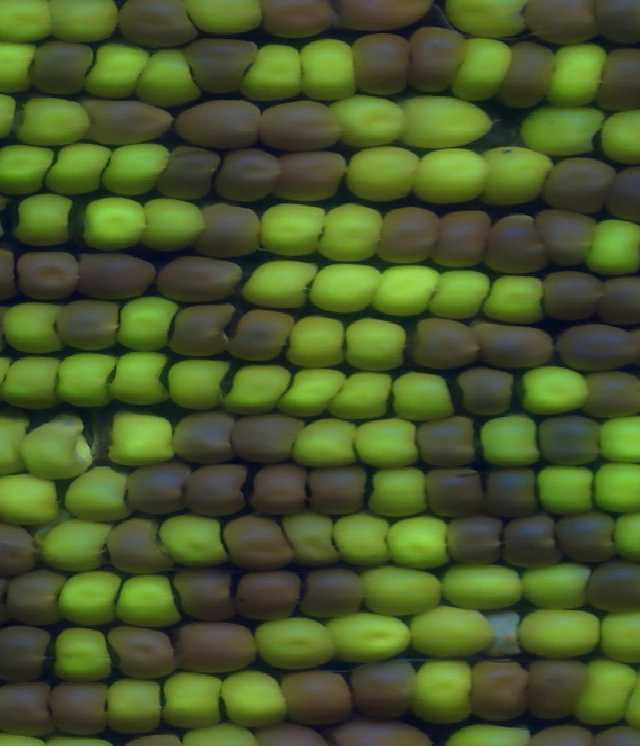fluorescent: (398, 92, 497, 149), (18, 410, 96, 482), (508, 107, 606, 160), (250, 615, 341, 672), (349, 413, 431, 474), (411, 150, 501, 205), (363, 564, 450, 620), (518, 606, 613, 657), (408, 606, 502, 657), (281, 310, 355, 374), (328, 610, 419, 662), (153, 512, 232, 570), (217, 663, 290, 725), (576, 659, 640, 729), (483, 147, 554, 210), (382, 512, 455, 573), (348, 147, 428, 202), (242, 258, 324, 311), (318, 202, 384, 267), (258, 195, 328, 256), (308, 260, 381, 318), (0, 468, 66, 532), (411, 658, 478, 721), (52, 354, 123, 412), (56, 569, 128, 626), (369, 265, 445, 319), (297, 38, 363, 100), (475, 412, 548, 468), (220, 362, 294, 417), (96, 143, 174, 195), (549, 45, 613, 108), (2, 349, 66, 412), (109, 297, 182, 352), (6, 190, 76, 247), (44, 518, 122, 569), (287, 419, 365, 470), (347, 314, 415, 372), (535, 463, 608, 517), (439, 563, 526, 608), (106, 410, 178, 464), (23, 95, 95, 149), (81, 193, 148, 251), (333, 96, 409, 147), (163, 357, 233, 412), (81, 43, 151, 98), (453, 39, 516, 100), (109, 348, 173, 408), (158, 669, 224, 727), (43, 142, 113, 196), (426, 264, 491, 322), (367, 463, 434, 519), (114, 574, 183, 628), (132, 45, 196, 103), (283, 365, 348, 422), (139, 197, 205, 253), (61, 466, 132, 518), (56, 624, 113, 688), (488, 272, 554, 327), (244, 43, 305, 102), (0, 299, 65, 354), (511, 367, 586, 414), (585, 215, 640, 277), (329, 369, 393, 422), (333, 513, 393, 569), (104, 678, 164, 732), (181, 1, 267, 38), (45, 1, 122, 42), (445, 1, 532, 37), (522, 565, 595, 607), (392, 370, 455, 417), (0, 143, 54, 197), (588, 458, 640, 513), (0, 1, 62, 40), (599, 110, 640, 167), (0, 40, 36, 98), (601, 613, 640, 663), (443, 724, 531, 746), (599, 415, 640, 462), (178, 728, 258, 746)
nonfluorescent: (79, 95, 178, 148), (537, 156, 620, 219), (255, 98, 348, 149), (174, 101, 266, 152), (275, 668, 359, 723), (164, 298, 238, 360), (468, 321, 561, 370), (487, 211, 552, 281), (524, 652, 591, 719), (350, 35, 418, 101), (185, 37, 261, 95), (103, 625, 181, 681), (554, 321, 640, 371), (348, 660, 418, 721), (75, 249, 158, 300), (107, 1, 199, 47), (407, 316, 483, 371), (160, 141, 224, 206), (29, 41, 98, 101), (498, 39, 557, 109), (107, 518, 179, 575), (215, 147, 288, 203), (154, 254, 246, 298), (375, 202, 441, 263), (276, 149, 349, 204), (176, 622, 256, 672), (411, 28, 468, 98), (534, 414, 608, 467), (170, 568, 245, 620), (219, 515, 291, 569), (469, 661, 531, 723), (183, 463, 254, 517), (119, 462, 194, 513), (423, 462, 490, 519), (227, 307, 295, 363), (54, 299, 123, 354), (231, 566, 305, 617), (12, 248, 87, 298), (329, 1, 439, 35), (497, 515, 568, 567), (246, 460, 313, 515), (534, 206, 601, 261), (49, 677, 109, 738), (194, 206, 265, 257), (523, 1, 605, 45), (432, 208, 492, 268), (301, 564, 366, 619), (172, 411, 238, 463), (259, 1, 342, 42), (228, 414, 303, 459), (0, 682, 60, 738), (412, 418, 484, 464), (592, 48, 640, 116), (0, 626, 58, 682), (454, 367, 520, 416), (445, 516, 508, 567), (4, 570, 65, 622), (309, 466, 370, 517), (482, 468, 546, 516), (580, 369, 640, 419), (544, 275, 605, 324), (559, 509, 619, 558), (586, 560, 640, 611), (333, 721, 439, 746), (598, 276, 640, 329), (606, 161, 640, 222), (592, 1, 640, 42), (0, 522, 36, 574), (249, 724, 329, 746), (534, 725, 590, 746)
